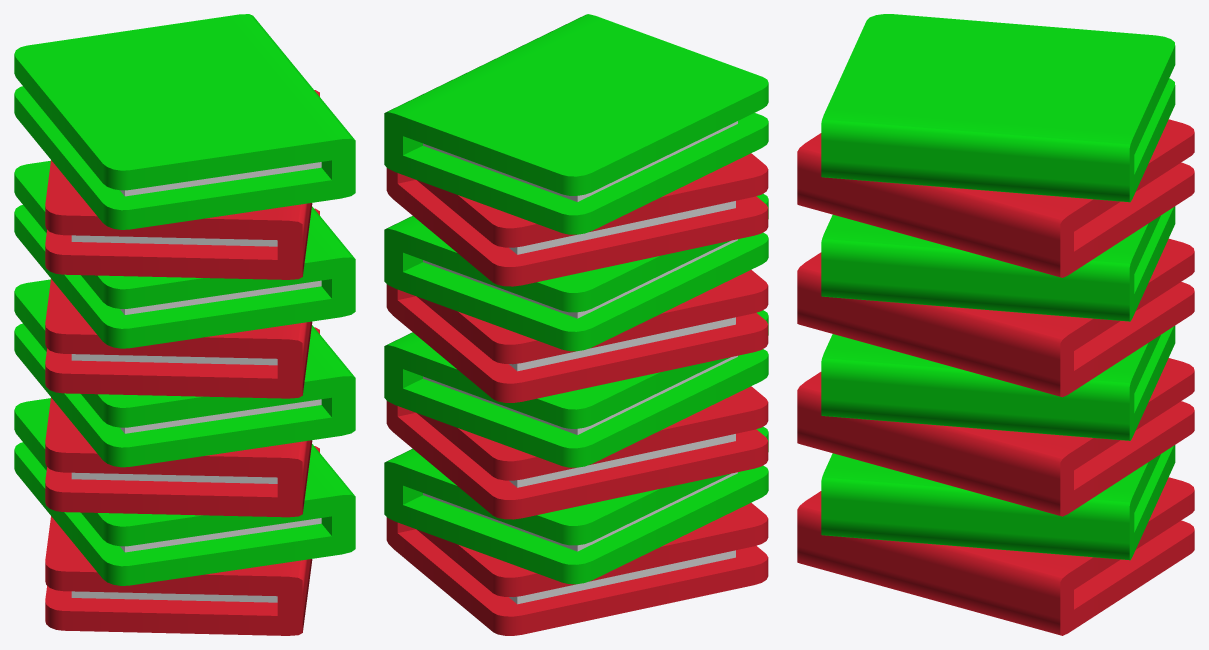
The model's file is hiasan buku buku .fbx.
3 renders of one model, left to right at view 1: azimuth 30°, elevation 25°; view 2: azimuth 150°, elevation 25°; view 3: azimuth 270°, elevation 25°, orthographic. The views are drawn at different scales.
Visible parts, largest first — view 1: Cube.011; view 2: Cube.011; view 3: Cube.011.
Part boxes in pixels (x1,y1,x2,y2): Cube.011: [14, 14, 355, 635]; Cube.011: [384, 14, 768, 635]; Cube.011: [797, 14, 1194, 635].
Bounding box in the file's own units: 151 × 209 × 158.
